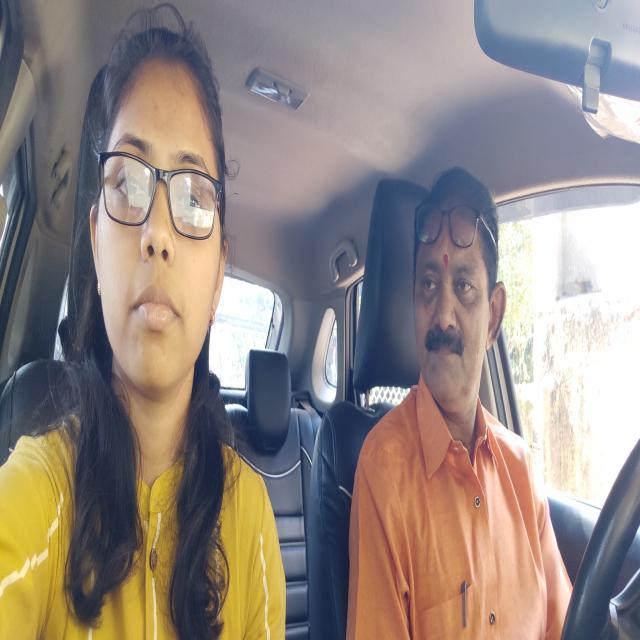LeftRight: (402, 162, 509, 424)
person: (78, 10, 227, 386)
